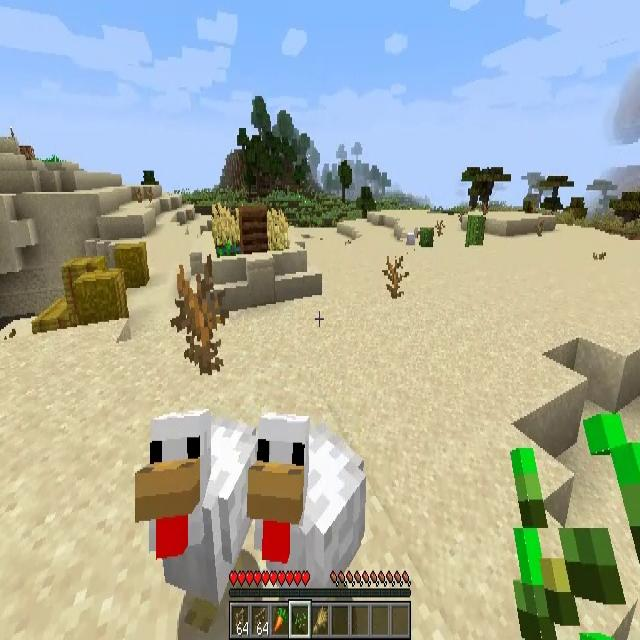duck: (136, 412, 256, 634), (248, 415, 368, 566), (406, 227, 419, 254)
